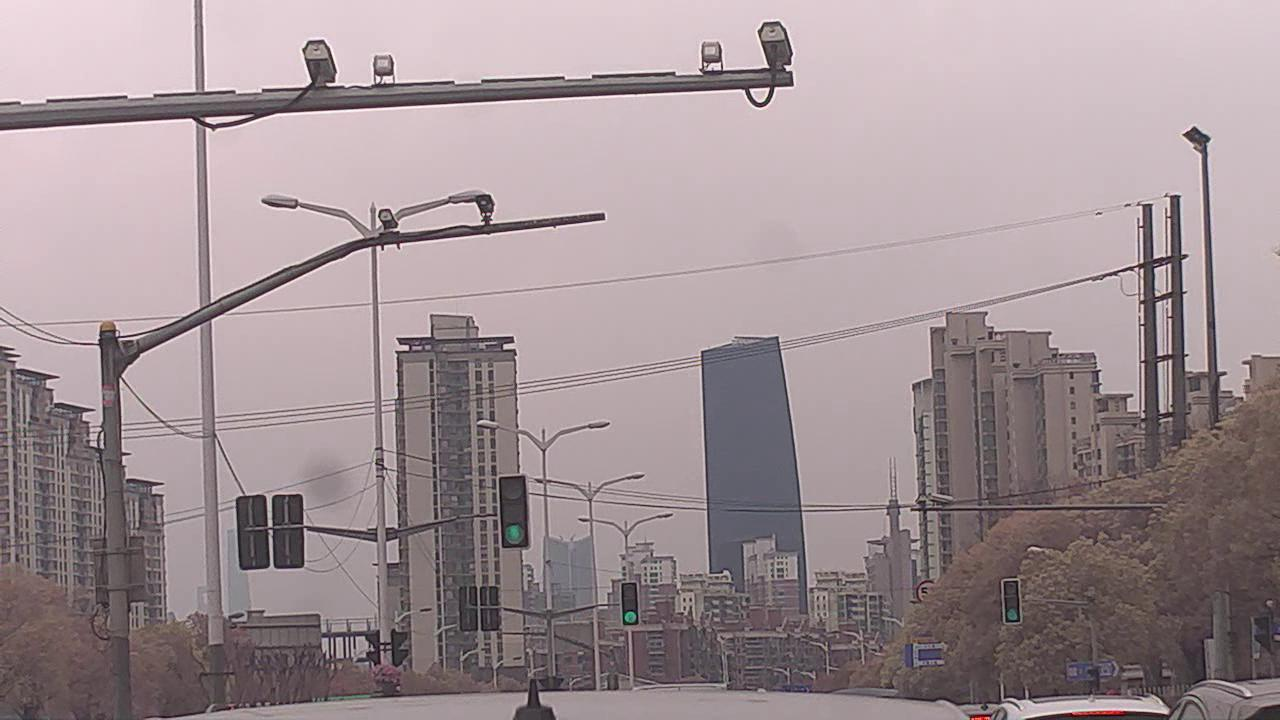traffic_light: (498, 474, 528, 551), (1002, 577, 1025, 627), (619, 582, 641, 627)
